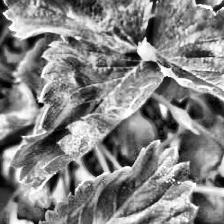Powdery Mildew Leaf: (0, 0, 165, 194), (37, 139, 200, 224), (136, 0, 224, 128)
